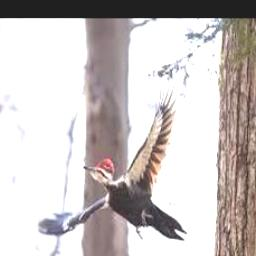Woodpecker: (37, 79, 187, 240)
